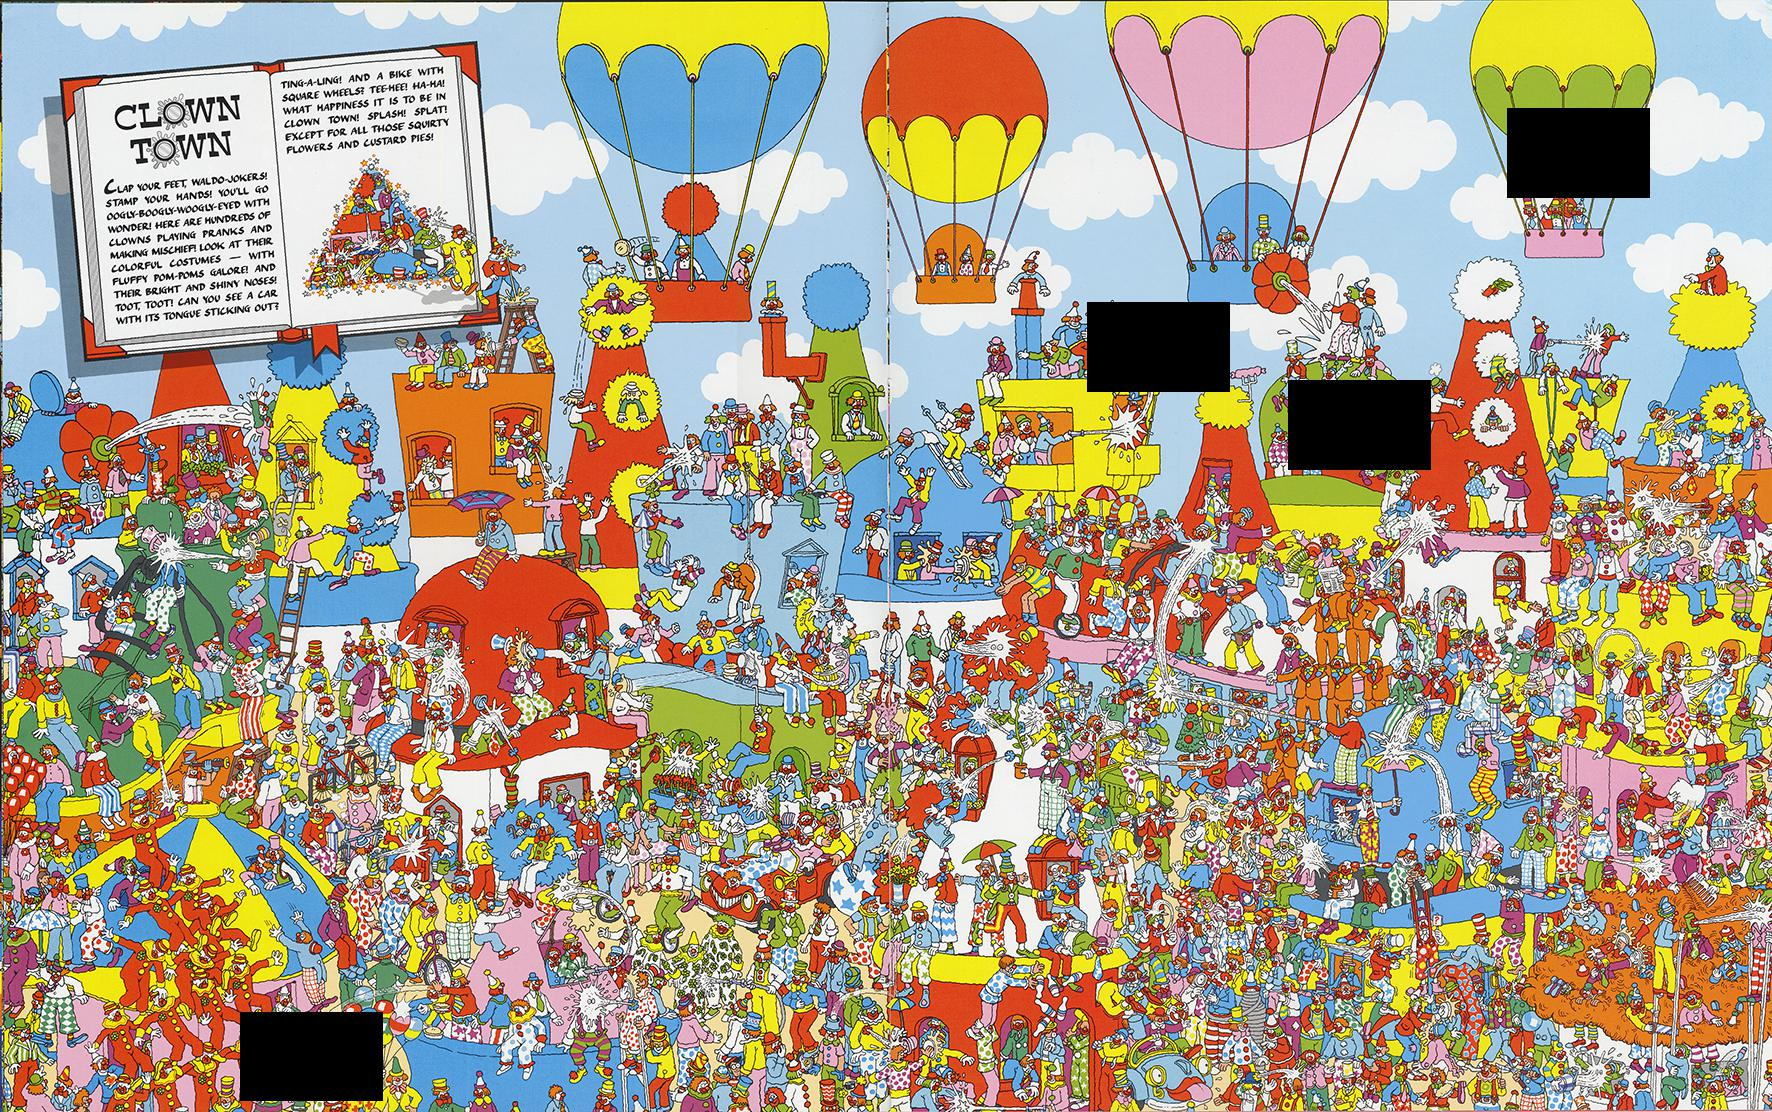waldo: (723, 1056, 741, 1076)
